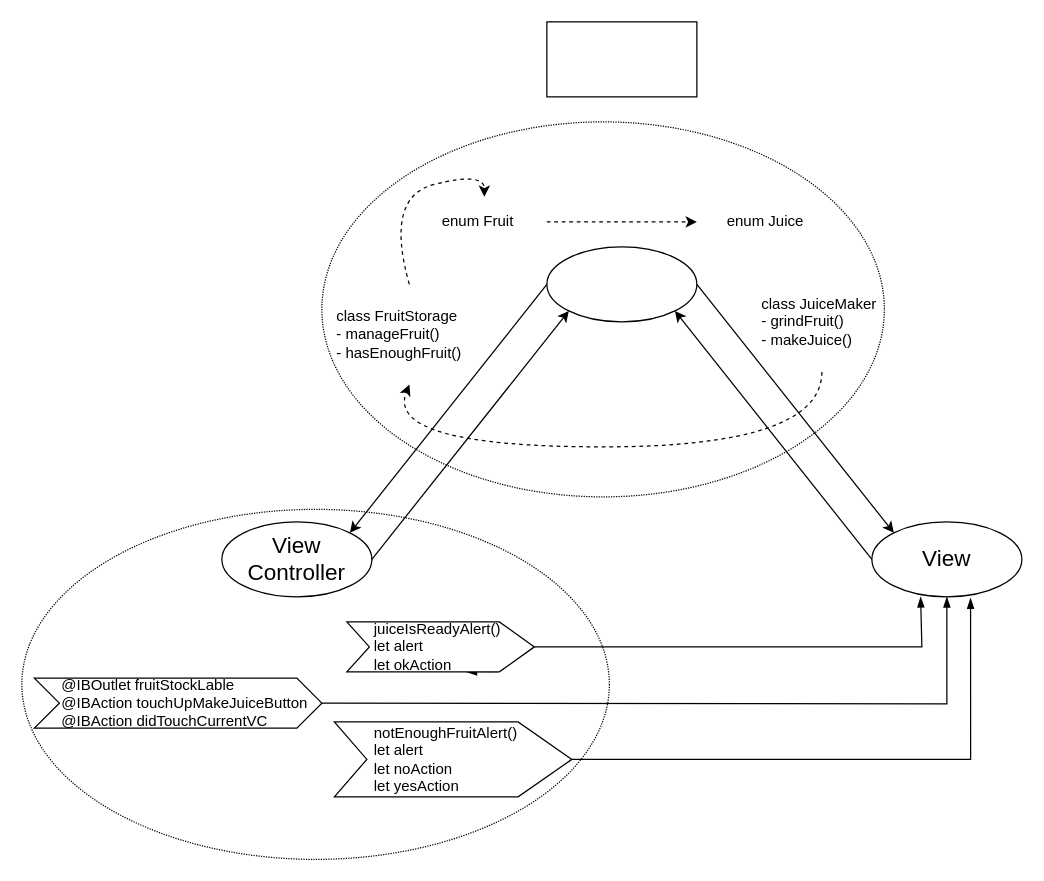
Some shapes in this 1044 by 881 pixel diagram are drawn without their labels. Each missing label, with the centre of its shape:
Model JuiceMaker FruitStorage: the point at 621,284
MVC Design Pattern: the point at 621,59
